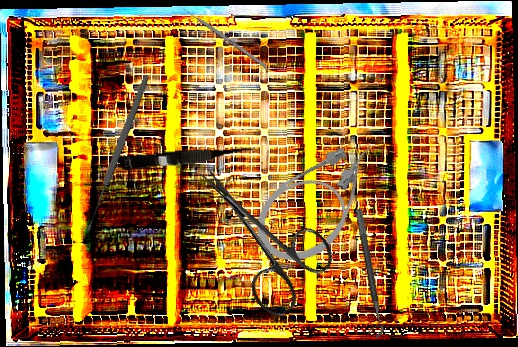Cannula: (240, 126, 403, 279)
Fixation Ring: (344, 207, 386, 342)
Iris Scissors: (168, 141, 344, 323)
Micro Scissor: (118, 141, 262, 174)
Pusher: (177, 3, 268, 69)
Surgical Spoon: (83, 74, 151, 233)
